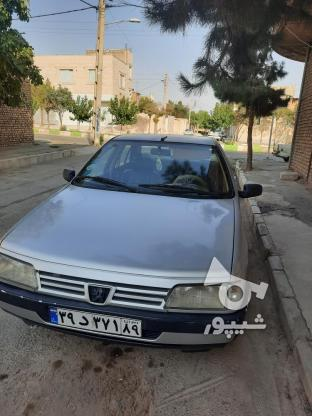car: (49, 306, 145, 336)
